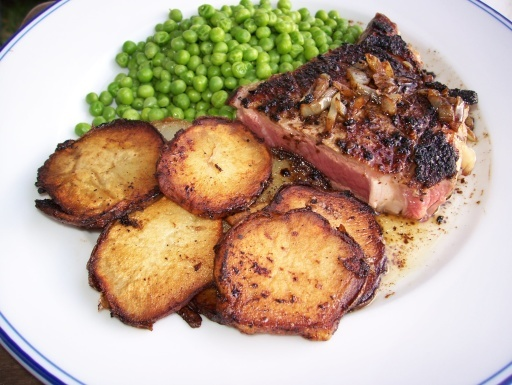background: (26, 0, 381, 205)
